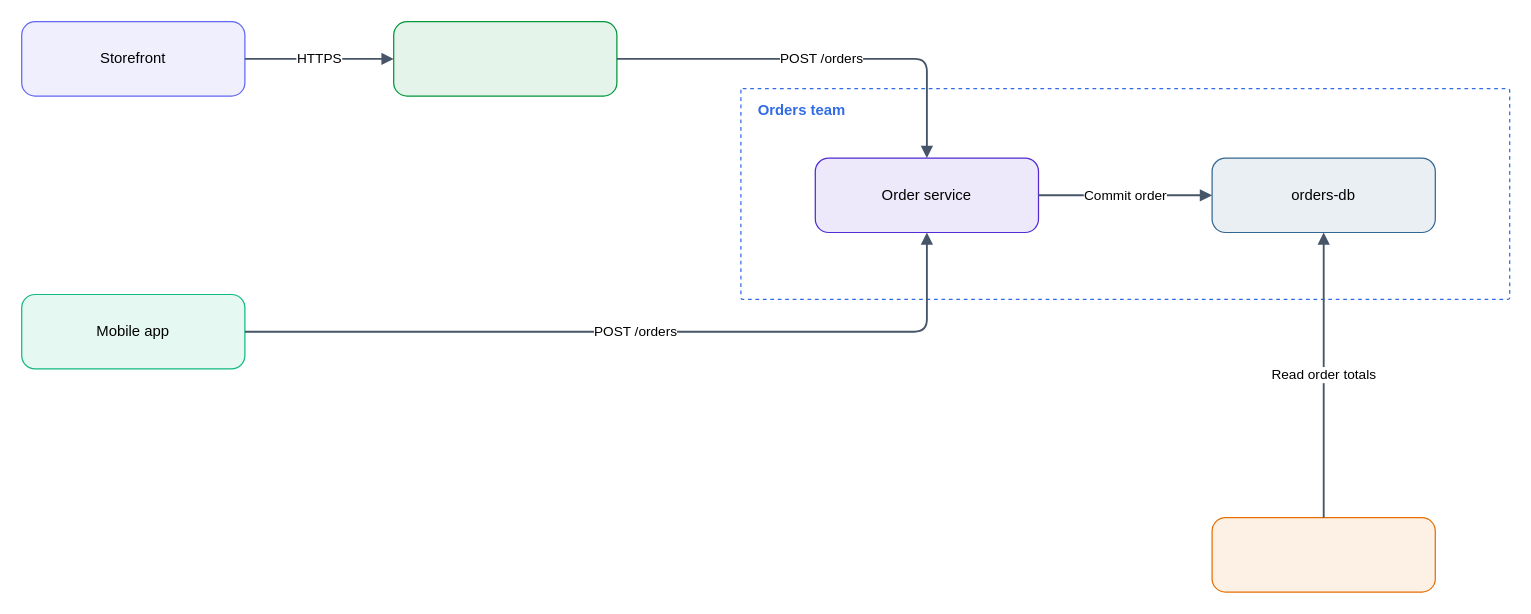
This 1531x614 diagram has some shape labels left out. The centre of each missing label's shape, as x and y in pixels:
Billing: (x=1323, y=554)
Commerce gateway TLS · /api: (x=504, y=58)
